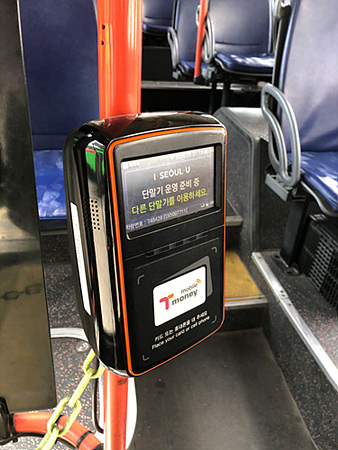terminal: (69, 115, 226, 366)
